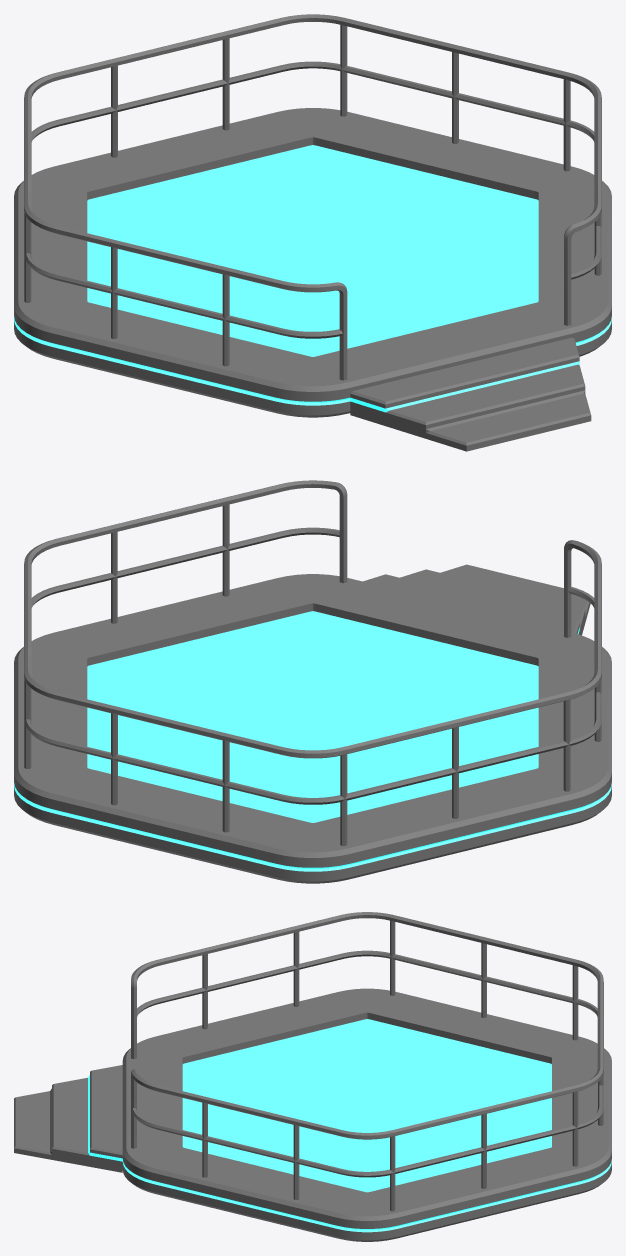
Rendered from Portal.fbx.
The picture shows the model from 3 angles, top to bottom: view 1: azimuth 30°, elevation 25°; view 2: azimuth 150°, elevation 25°; view 3: azimuth 270°, elevation 25°; orthographic projection. The views are drawn at different scales.
Visible parts, largest first — view 1: Portal_Base, Portal_Railing, Portal_Stair; view 2: Portal_Base, Portal_Railing, Portal_Stair; view 3: Portal_Base, Portal_Railing, Portal_Stair.
Boxes of the visible parts, x1,y1,x2,y2 form: Portal_Base: (14,108,611,417); Portal_Railing: (24,14,601,380); Portal_Stair: (350,337,591,451); Portal_Base: (14,574,611,883); Portal_Railing: (24,480,601,845); Portal_Stair: (363,564,590,635); Portal_Base: (122,988,611,1241); Portal_Railing: (131,912,603,1211); Portal_Stair: (14,1065,122,1172).
Bounding box in the file's own units: 386 × 82.49 × 423.
